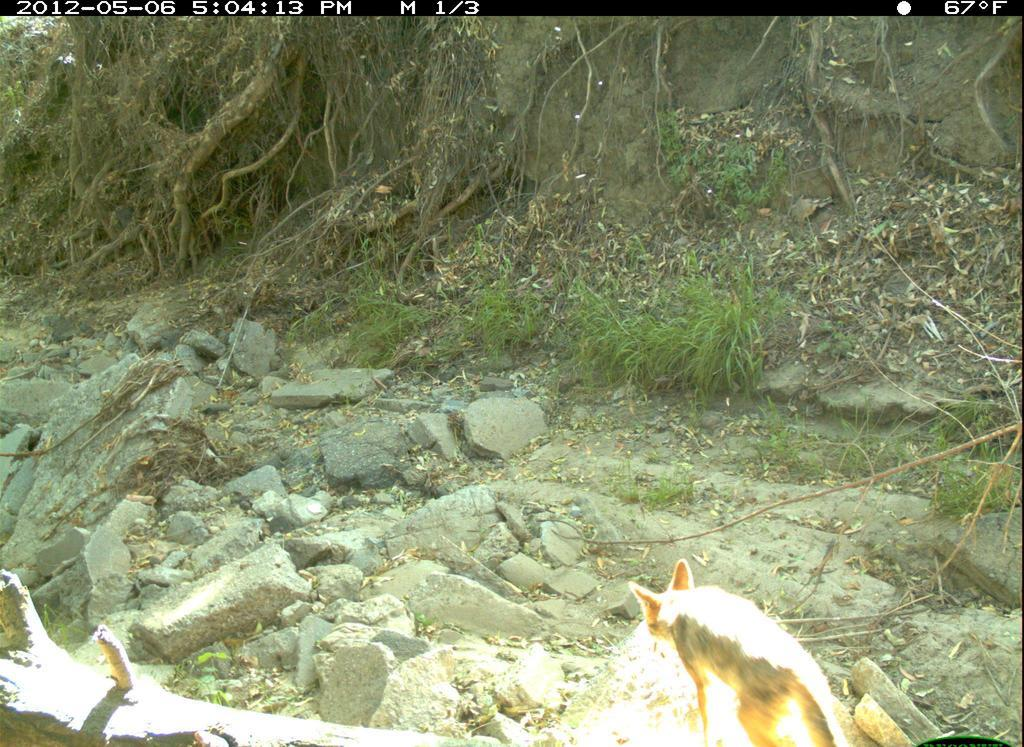coyote: (624, 559, 866, 745)
